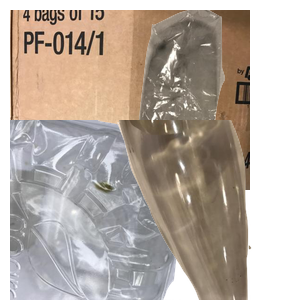cardboard: (10, 10, 250, 190)
glass: (115, 120, 300, 300)
plastic: (10, 120, 197, 300)
trash: (114, 10, 300, 190)
